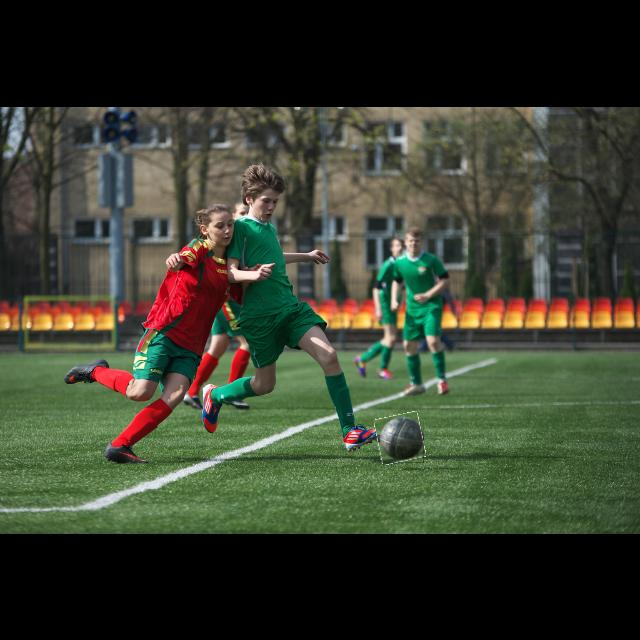Football: (376, 413, 424, 463)
